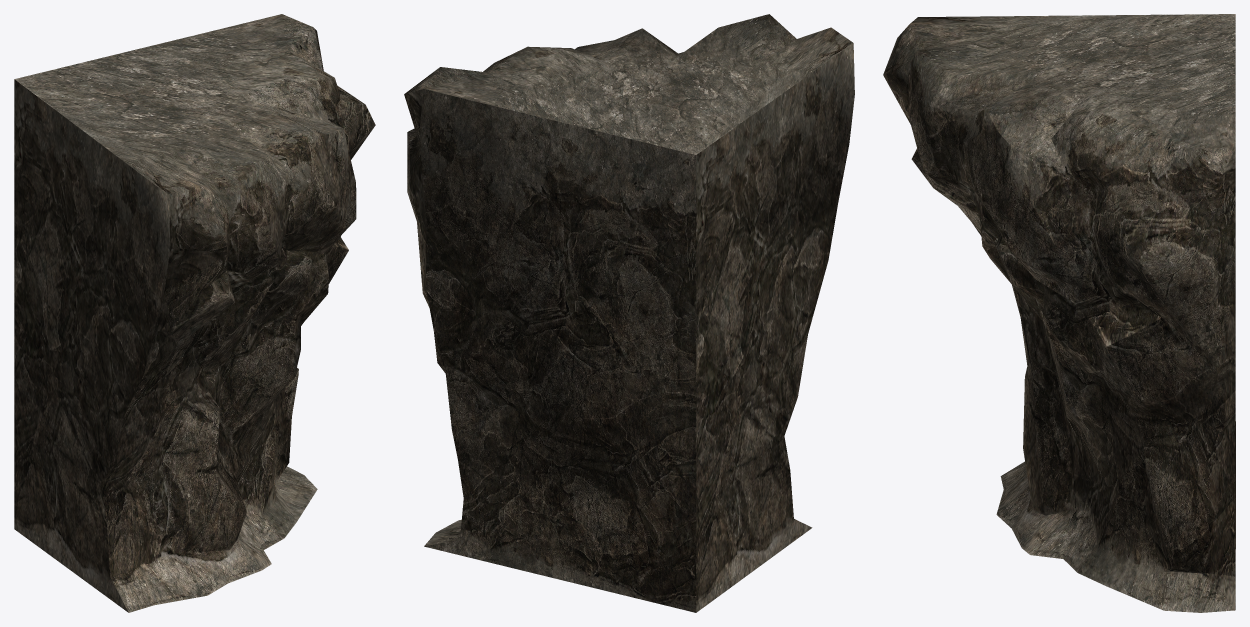
The model's file is SM_Env_Fire_Cliffs_CliffWall_02b.FBX.
3 views of the same model, side by side, from view 1: azimuth 30°, elevation 25°; view 2: azimuth 150°, elevation 25°; view 3: azimuth 270°, elevation 25° (orthographic). The views are drawn at different scales.
Parts seen in each view (by area): view 1: SM_Env_Fire_Cliffs_CliffWall_02b; view 2: SM_Env_Fire_Cliffs_CliffWall_02b; view 3: SM_Env_Fire_Cliffs_CliffWall_02b.
Boxes of the visible parts, <box> form: SM_Env_Fire_Cliffs_CliffWall_02b: <box>14,14,375,612</box>; SM_Env_Fire_Cliffs_CliffWall_02b: <box>404,14,854,612</box>; SM_Env_Fire_Cliffs_CliffWall_02b: <box>883,14,1235,612</box>.
Size of the model in its own units: 756 by 711 by 1039.
